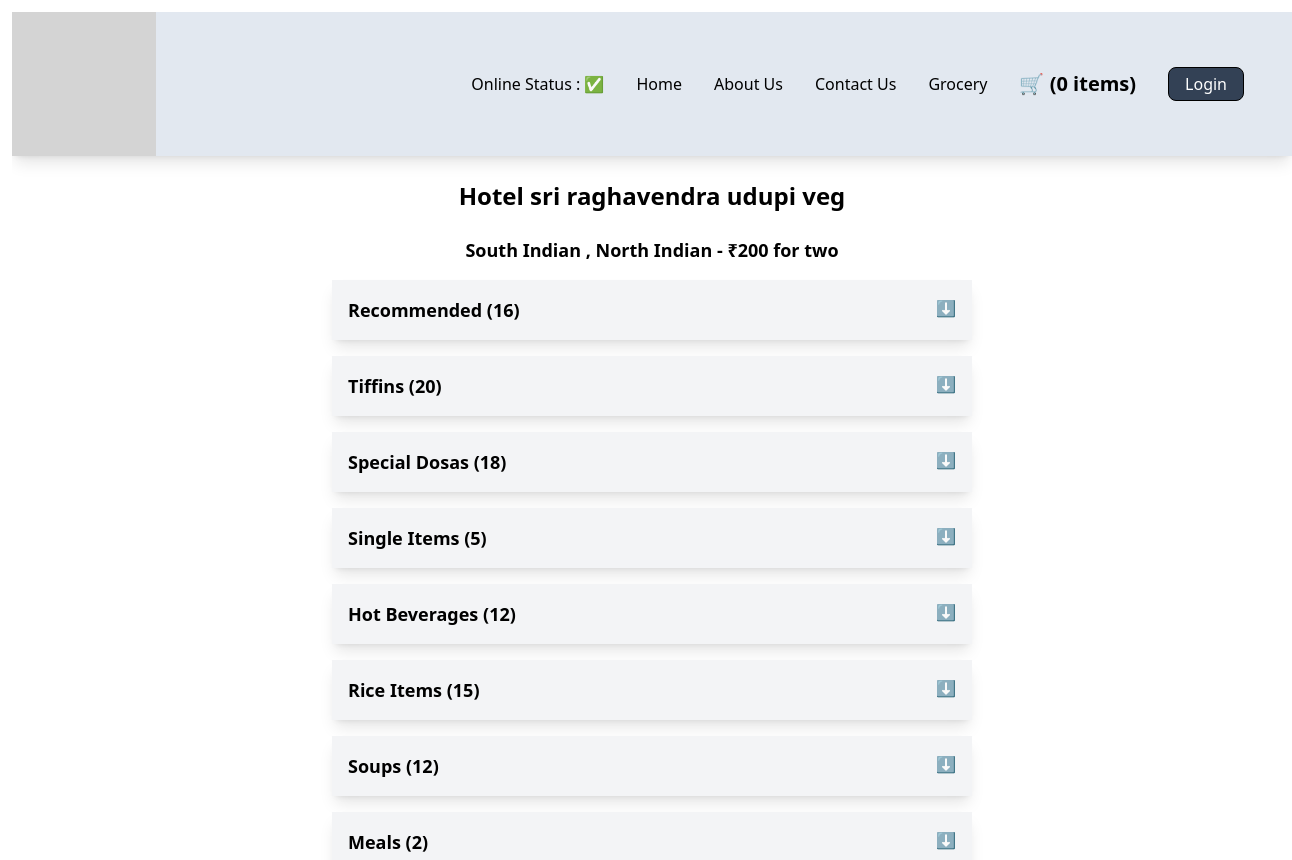
Test: Should add food items to the card and render it › Should load Items List Component
The width and height of the screenshot is (1292, 860).
Click the text "Recommended (16)". click: (434, 310)
box: [348,296,520,324]
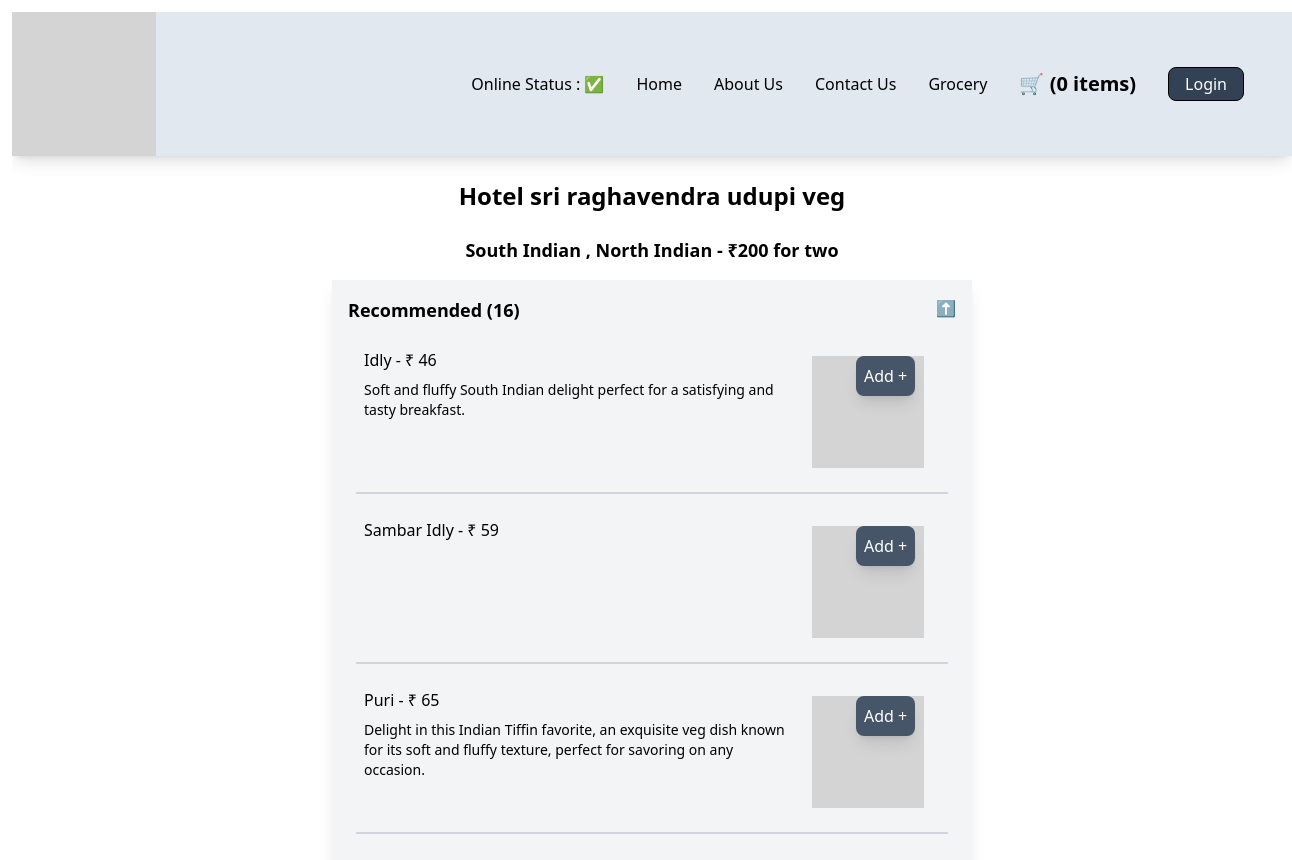
Now the number of elements with test id "food-items" is 16
